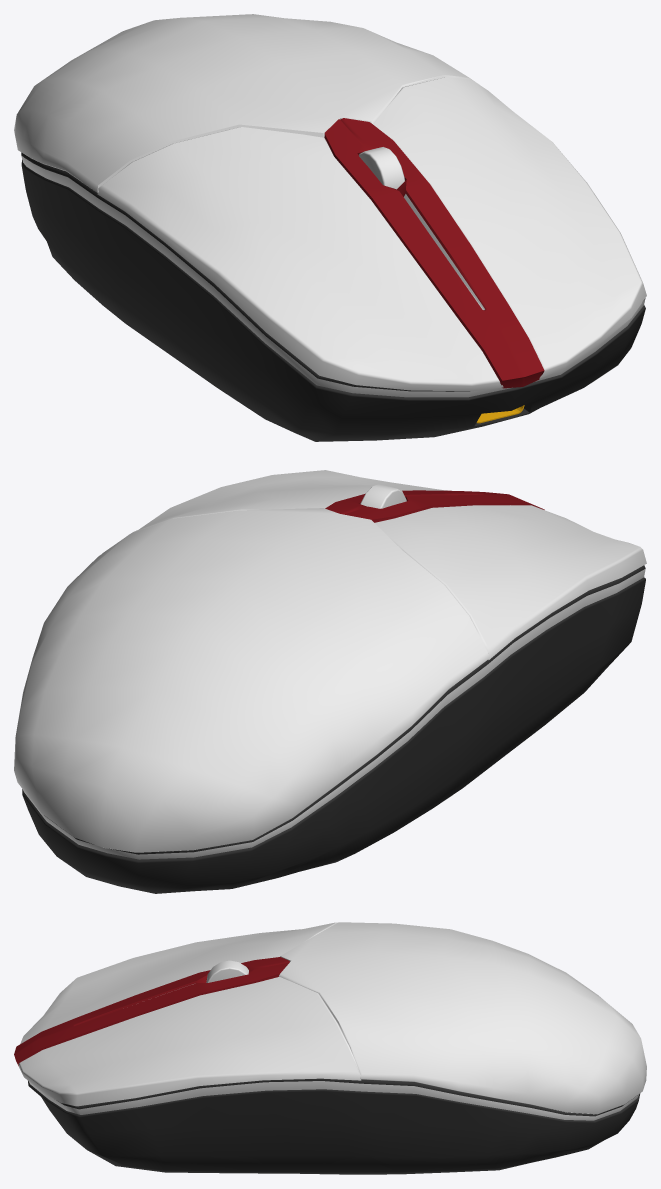
File: mouse.fbx
3 views of the same model, one above another, from view 1: azimuth 30°, elevation 25°; view 2: azimuth 150°, elevation 25°; view 3: azimuth 270°, elevation 25° (orthographic). The views are drawn at different scales.
Visible parts, largest first — view 1: mouse; view 2: mouse; view 3: mouse.
Boxes of the visible parts, <box> form: mouse: <box>14,14,646,441</box>; mouse: <box>14,470,646,893</box>; mouse: <box>14,922,646,1174</box>.
Bounding box in the file's own units: 6.34 × 3.45 × 11.82.
